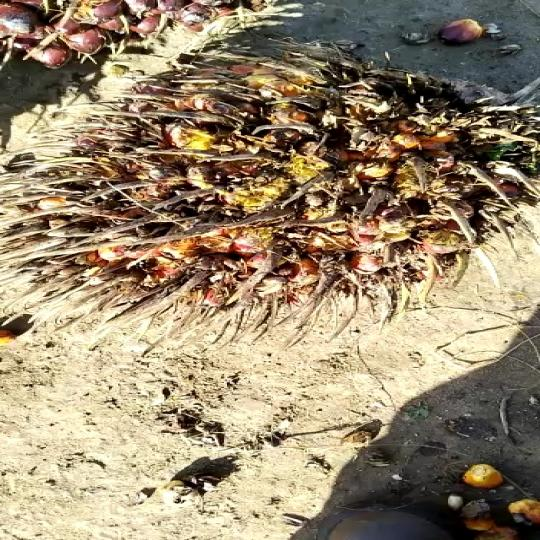terlalu masak: (0, 45, 540, 323)
